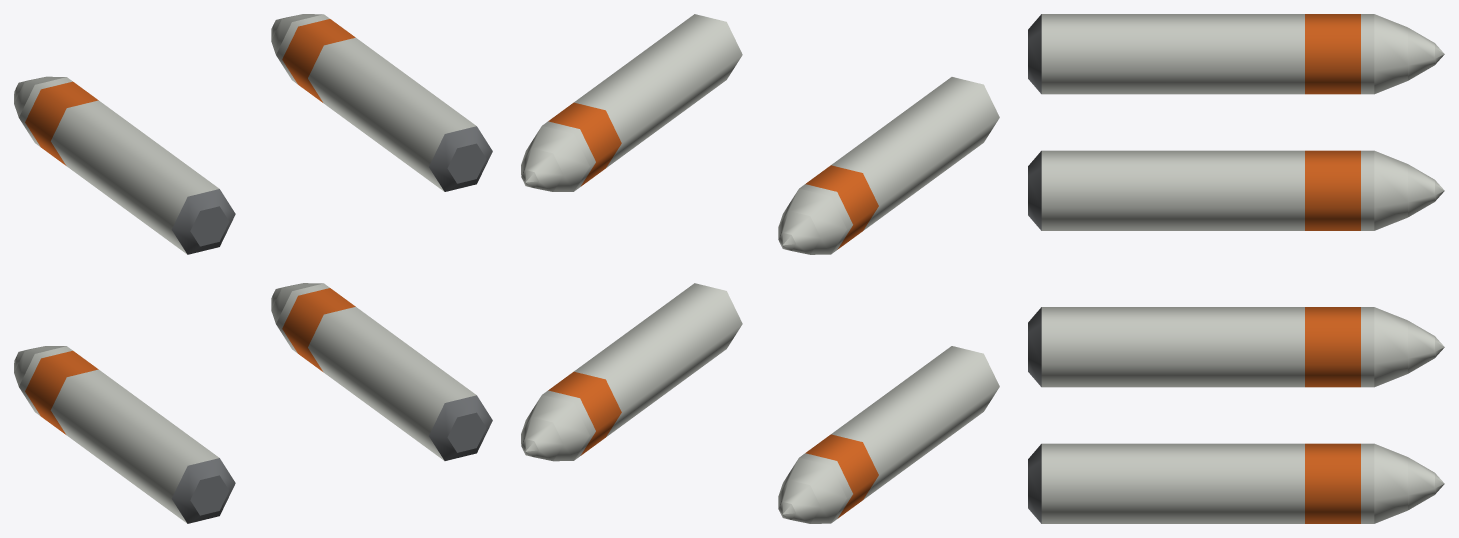
3 views of the same model, side by side, from view 1: azimuth 30°, elevation 25°; view 2: azimuth 150°, elevation 25°; view 3: azimuth 270°, elevation 25° (orthographic). The views are drawn at different scales.
Visible parts, largest first — view 1: u73l_hx; view 2: u73l_hx; view 3: u73l_hx.
Boxes of the visible parts, x1,y1,x2,y2 form: u73l_hx: (14,14,492,523); u73l_hx: (521,14,999,523); u73l_hx: (1028,14,1444,523).
Size of the model in its own units: 3.61 by 3.51 by 3.72.
